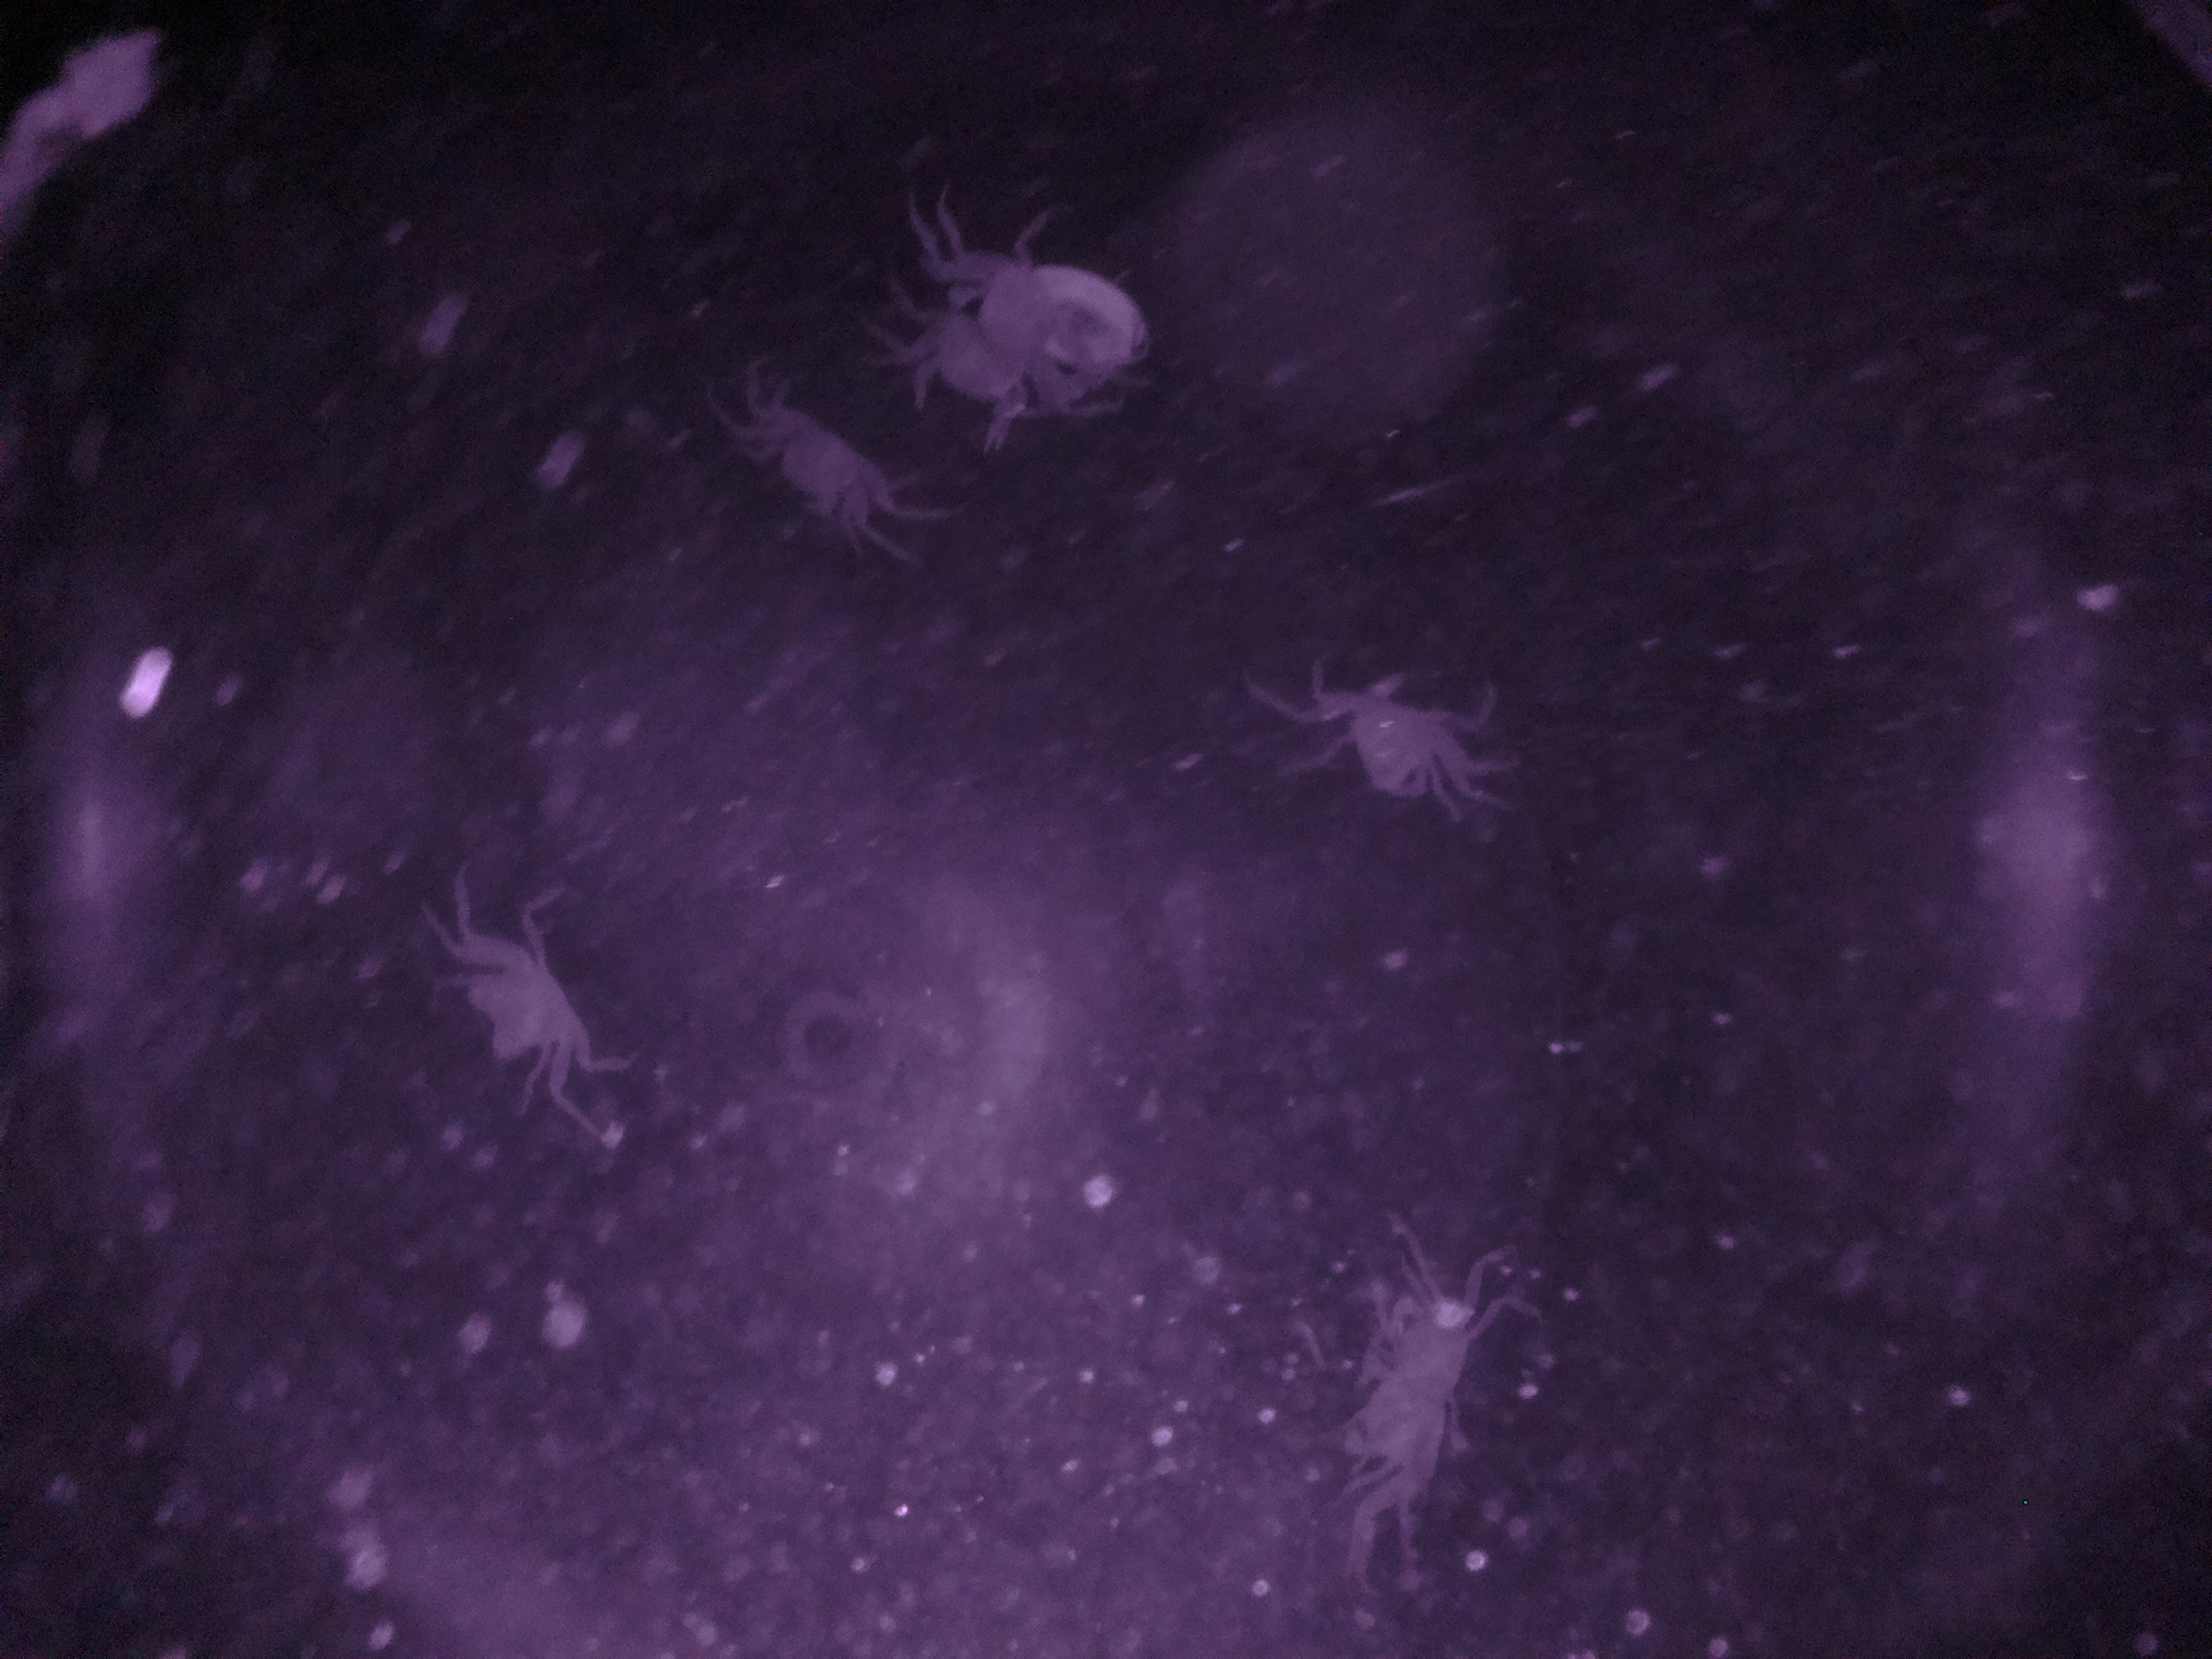Crab: (427, 894, 594, 1096), (742, 387, 923, 563)
